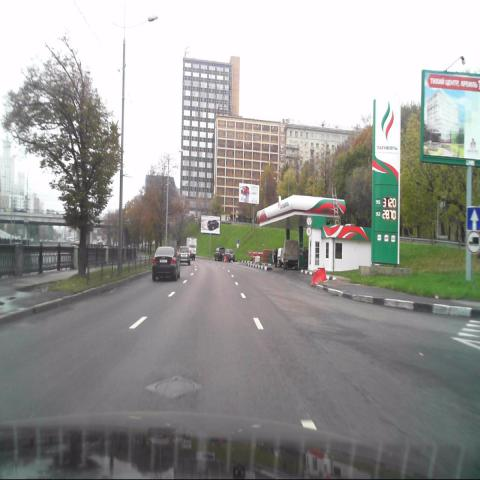5_5: (466, 207, 480, 231)
